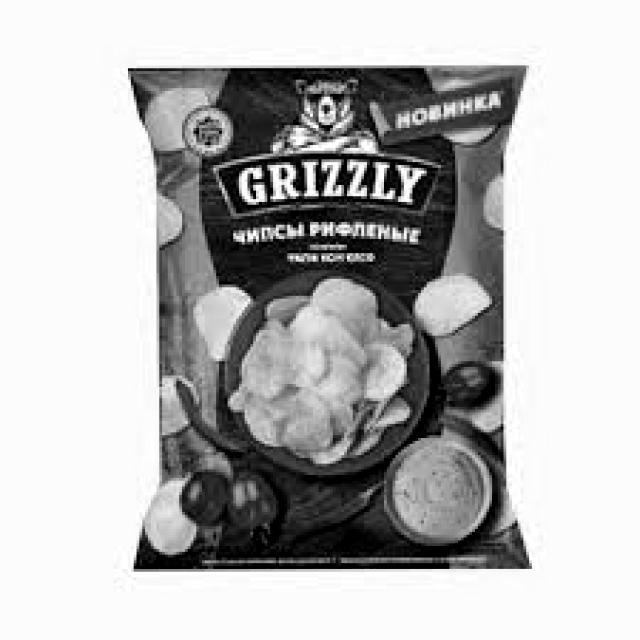grizzly: (213, 75, 438, 212)
